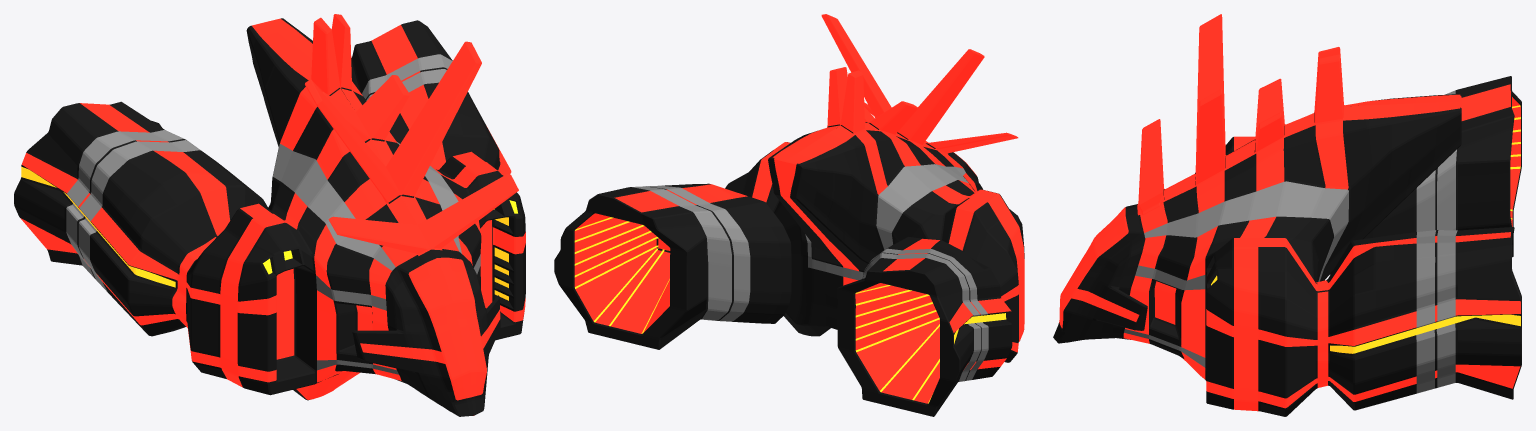
File: zako2.fbx
The picture shows the model from 3 angles, left to right: view 1: azimuth 30°, elevation 25°; view 2: azimuth 150°, elevation 25°; view 3: azimuth 270°, elevation 25°; orthographic projection. The views are drawn at different scales.
Parts seen in each view (by area): view 1: Cube; view 2: Cube; view 3: Cube.
Boxes of the visible parts, x1,y1,x2,y2 form: Cube: [14, 14, 525, 416]; Cube: [554, 14, 1024, 416]; Cube: [1053, 14, 1521, 416].
Bounding box in the file's own units: 843 × 591 × 792.
